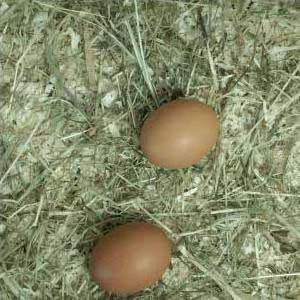egg: (90, 222, 171, 296), (141, 99, 219, 168)
